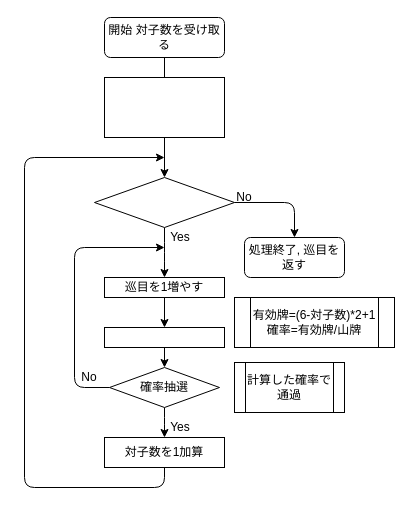
The diagram is 412 pixels wide and 513 high, and some of its shapes have lost their labels. The shapes that lost their labels are listed below. From the top down, each one's centre as x and y in pixels, then its label:
[164,107]: 変数の定義と初期化 巡目: -1 確率: 0 山牌: 123
[164,202]: 対子数は7未満？
[164,337]: 確率計算
